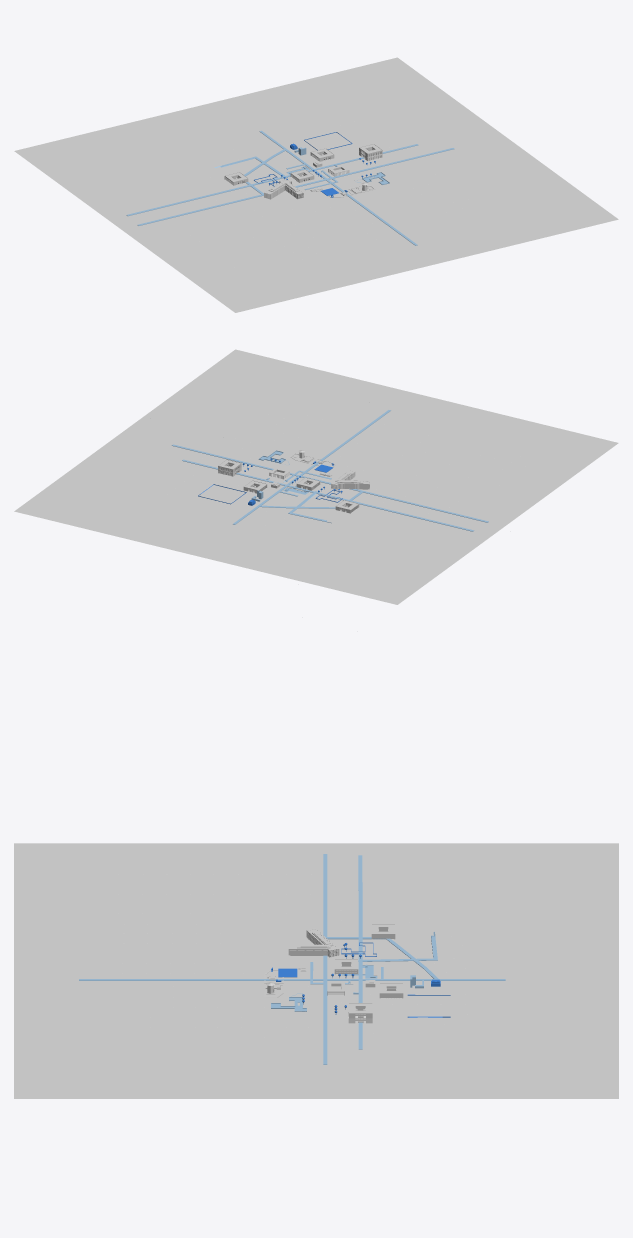
The model's file is color_cu.glb.
3 renders of one model, top to bottom at view 1: azimuth 30°, elevation 25°; view 2: azimuth 150°, elevation 25°; view 3: azimuth 270°, elevation 25°, orthographic. The views are drawn at different scales.
Parts seen in each view (by area): view 1: ground, street; view 2: ground, street; view 3: ground, street.
Part boxes in pixels (bbox=[...]): ground: bbox=[14, 57, 618, 312]; street: bbox=[126, 130, 454, 245]; ground: bbox=[14, 349, 618, 604]; street: bbox=[171, 410, 488, 531]; ground: bbox=[14, 843, 618, 1098]; street: bbox=[79, 854, 505, 1064].
Size of the model in its own units: 4327 by 2843 by 4030.
